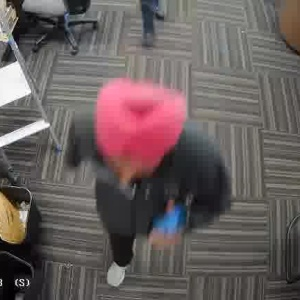person: (89, 83, 215, 287)
